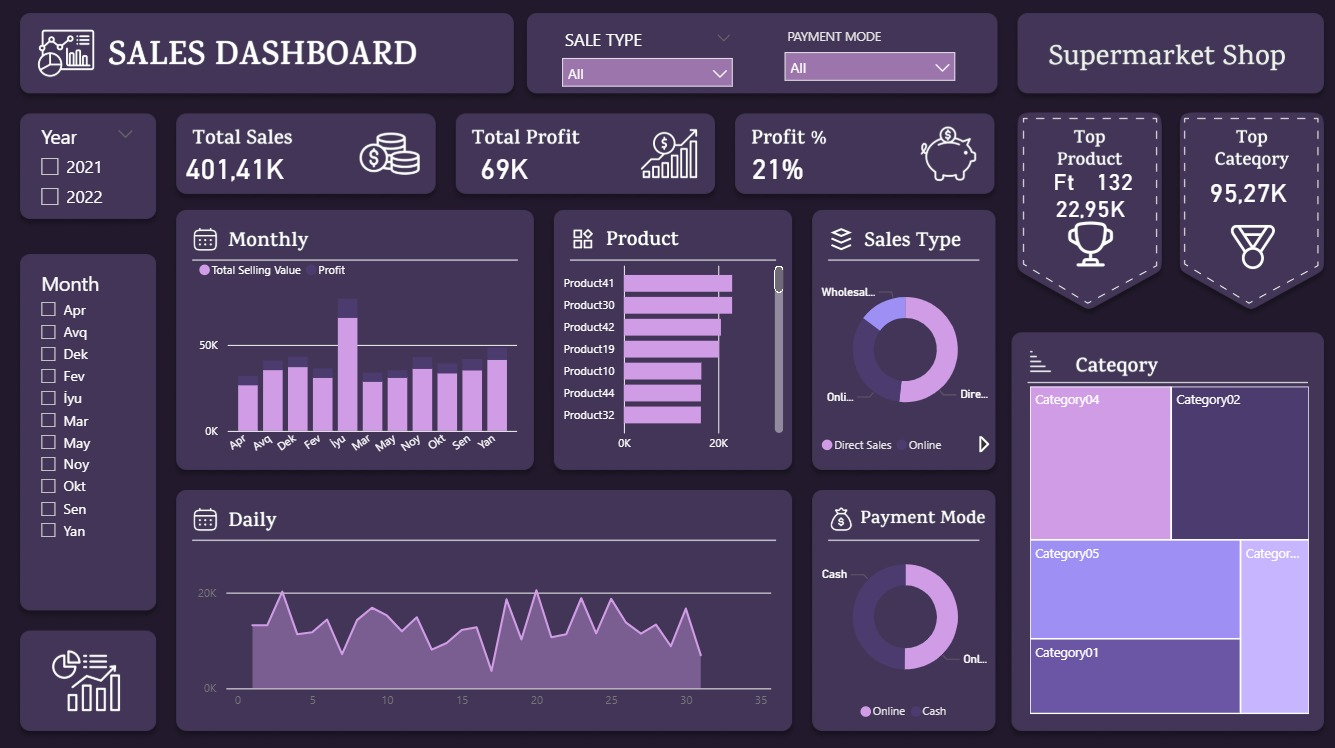

The page's visual inventory and layout, read from the dashboard file:
{"tool":"powerbi","page":{"name":"Yeni","canvas":[1280,720],"ordinal":2},"visuals":[{"type":"slicer","fields":{"Values":["InputData.SALE TYPE"]},"box":[524.7,27,183.1,61.9],"z":0},{"type":"slicer","fields":{"Values":["InputData.PAYMENT MODE"]},"box":[737.4,27,183.1,61.9],"z":1000},{"type":"slicer","fields":{"Values":["InputData.Year"]},"box":[26.2,117.9,113.1,96.4],"z":2000},{"type":"slicer","fields":{"Values":["InputData.Month Name"]},"box":[26.2,258.3,111.9,314.3],"z":3000},{"type":"columnChart","fields":{"Category":["InputData.Month Name"],"Y":["Sum(InputData.Total Selling Value)","InputData.Profit"]},"box":[184.4,243.7,313.3,203.7],"z":4000},{"type":"donutChart","fields":{"Y":["Sum(InputData.Total Selling Value)"],"Category":["InputData.SALE TYPE"]},"box":[777.5,257.5,170,190],"z":5000},{"type":"areaChart","fields":{"Y":["Sum(InputData.Total Selling Value)"],"Category":["InputData.Day"]},"box":[183.8,511.2,556.2,178.8],"z":6000},{"type":"donutChart","fields":{"Y":["Sum(InputData.Total Selling Value)"],"Category":["InputData.PAYMENT MODE"]},"box":[777.4,511.8,170.2,189.5],"z":7000},{"type":"clusteredBarChart","fields":{"Y":["Sum(InputData.Total Selling Value)"],"Category":["InputData.MasterData.PRODUCT"]},"box":[527.5,246.2,223.8,198.8],"z":8000},{"type":"treemap","fields":{"Group":["InputData.MasterData.CATEGORY"],"Values":["Sum(InputData.Total Selling Value)"]},"box":[975.7,368.6,275.7,321.4],"z":9000},{"type":"card","fields":{"Values":["Sum(InputData.QUANTITY)"]},"box":[1032.7,163.6,59.1,31.8],"z":10000},{"type":"card","fields":{"Values":["Min(InputData.MasterData.UOM)"]},"box":[990,163.6,46.4,31.8],"z":11000},{"type":"card","fields":{"Values":["Sum(InputData.Total Selling Value)"]},"box":[986.2,190,105.6,28.1],"z":12000},{"type":"card","fields":{"Values":["Sum(InputData.Total Selling Value)"]},"box":[1136.9,149.4,103.8,81.2],"z":13000},{"type":"card","fields":{"Values":["Sum(InputData.Total Selling Value)"]},"box":[171.4,141.4,104.3,48.6],"z":14000},{"type":"card","fields":{"Values":["InputData.Profit"]},"box":[441.4,140,77.1,50],"z":15000},{"type":"card","fields":{"Values":["InputData.Profit %"]},"box":[707.1,141.4,67.1,48.6],"z":16000}]}

Visuals, with their boxes in screenshot pixels (x1, y1, x2, y2), scaled from the page's 1280x720 canvas onto the 1335x748 screenshot:
slicer - InputData.SALE TYPE: select_region(547, 28, 738, 92)
slicer - InputData.PAYMENT MODE: select_region(769, 28, 960, 92)
slicer - InputData.Year: select_region(27, 122, 145, 223)
slicer - InputData.Month Name: select_region(27, 268, 144, 595)
columnChart - InputData.Month Name x Sum(InputData.Total Selling Value): select_region(192, 253, 519, 465)
donutChart - Sum(InputData.Total Selling Value) x InputData.SALE TYPE: select_region(811, 268, 988, 465)
areaChart - Sum(InputData.Total Selling Value) x InputData.Day: select_region(192, 531, 772, 717)
donutChart - Sum(InputData.Total Selling Value) x InputData.PAYMENT MODE: select_region(811, 532, 988, 729)
clusteredBarChart - Sum(InputData.Total Selling Value) x InputData.MasterData.PRODUCT: select_region(550, 256, 784, 462)
treemap - InputData.MasterData.CATEGORY x Sum(InputData.Total Selling Value): select_region(1018, 383, 1305, 717)
card - Sum(InputData.QUANTITY): select_region(1077, 170, 1139, 203)
card - Min(InputData.MasterData.UOM): select_region(1033, 170, 1081, 203)
card - Sum(InputData.Total Selling Value): select_region(1029, 197, 1139, 227)
card - Sum(InputData.Total Selling Value): select_region(1186, 155, 1294, 240)
card - Sum(InputData.Total Selling Value): select_region(179, 147, 288, 197)
card - InputData.Profit: select_region(460, 145, 541, 197)
card - InputData.Profit %: select_region(737, 147, 807, 197)
